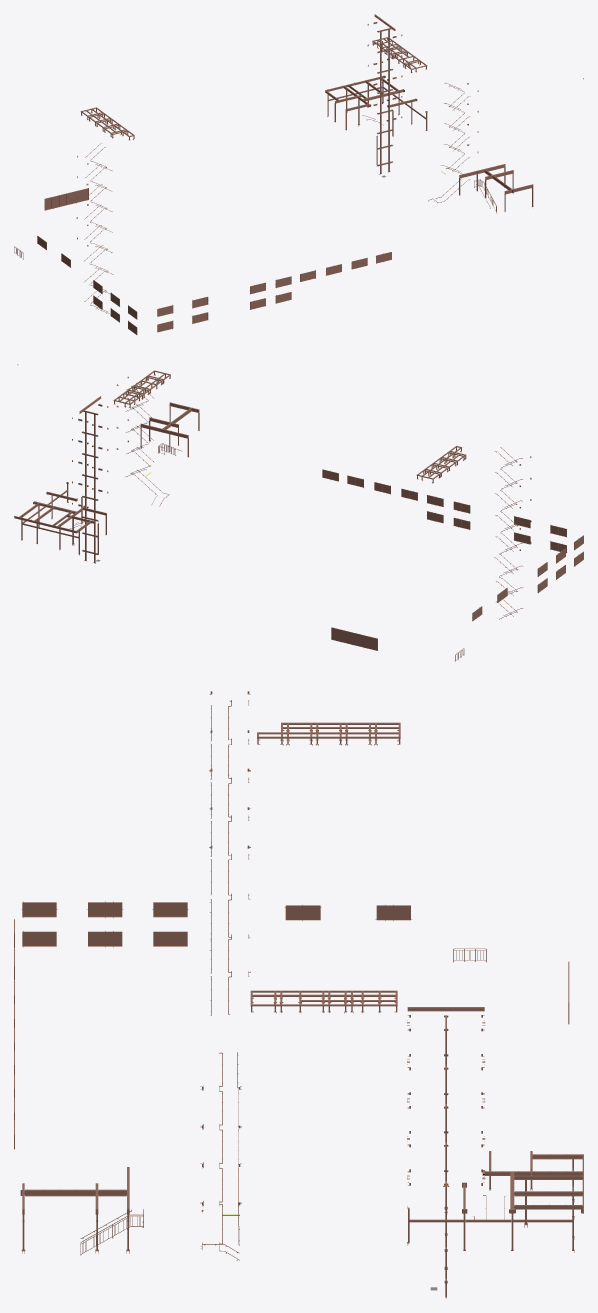
The picture shows the model from 3 angles, top to bottom: view 1: azimuth 30°, elevation 25°; view 2: azimuth 150°, elevation 25°; view 3: azimuth 270°, elevation 25°; orthographic projection. The views are drawn at different scales.
Visible parts, largest first — view 1: Mesh 30987; view 2: Mesh 30987; view 3: Mesh 30987.
Boxes of the visible parts, x1,y1,x2,y2 form: Mesh 30987: (14, 14, 583, 334); Mesh 30987: (14, 364, 583, 661); Mesh 30987: (14, 691, 583, 1298).
Size of the model in its own units: 81.15 by 26.16 by 42.92.
1 material, 1 textured.
